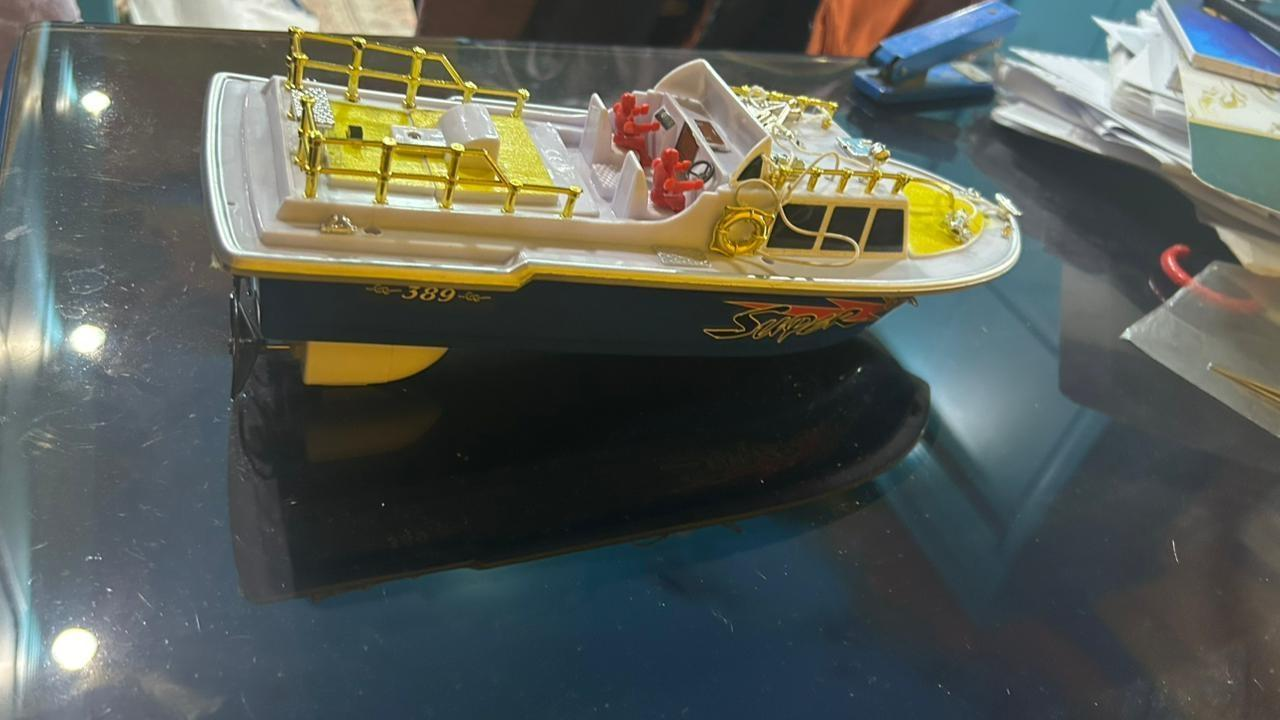Boat: (191, 21, 1032, 404)
